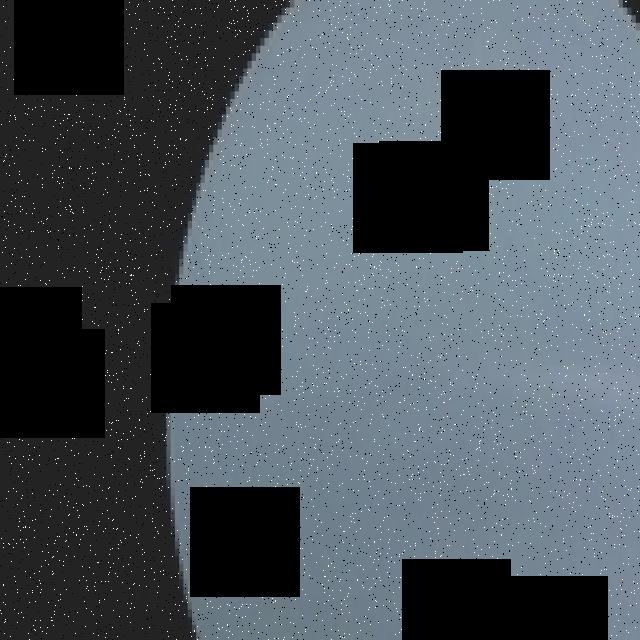Uranus: (166, 0, 640, 640)
